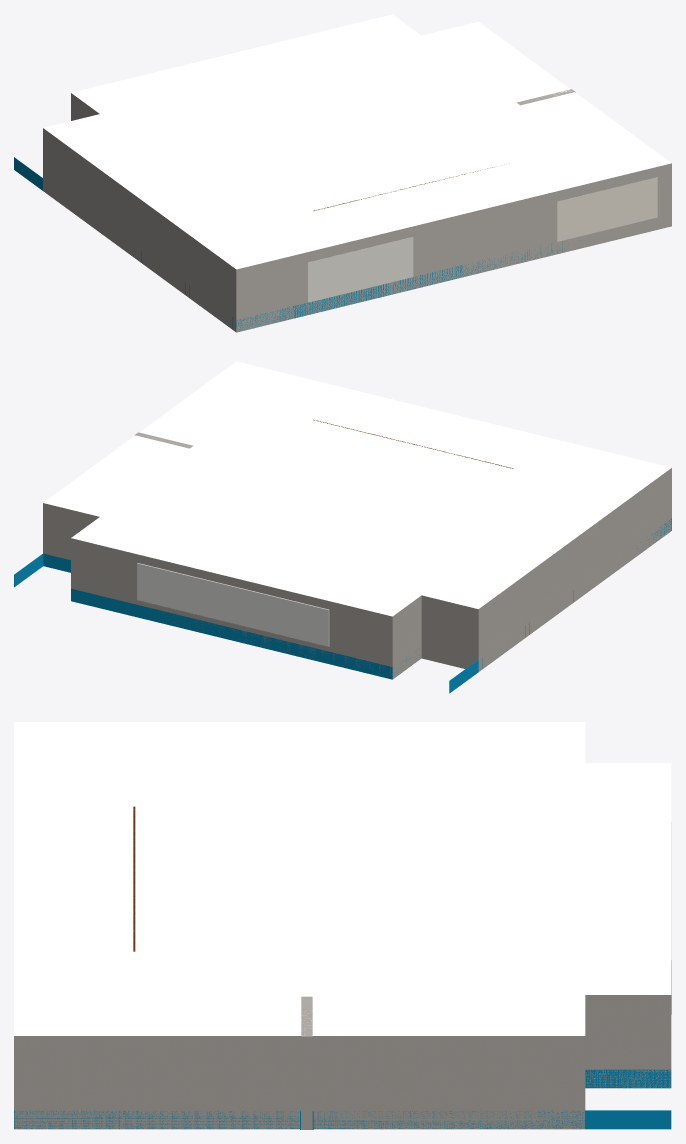
The model's file is truyenthong.glb.
3 views of the same model, one above another, from view 1: azimuth 30°, elevation 25°; view 2: azimuth 150°, elevation 25°; view 3: azimuth 270°, elevation 25° (orthographic). The views are drawn at different scales.
Visible parts, largest first — view 1: TT_Architecture, TT_AlcoveComb, TT_K11_BackPanel, TT_K10_BackPanel, TT_Dado_S; view 2: TT_Architecture, TT_K5_Director_Panel_Back_White, TT_AlcoveComb, TT_Dado_Khu5_Back, TT_Dado_W; view 3: TT_Architecture, TT_Dado_E, TT_AlcoveComb, TT_Dado_Jamb_R, TT_Right_Alcove_78_Divider.
Part boxes in pixels (<box>): TT_Architecture: <box>43,14,671,331</box>; TT_AlcoveComb: <box>43,114,293,332</box>; TT_K11_BackPanel: <box>308,237,413,302</box>; TT_K10_BackPanel: <box>557,177,657,241</box>; TT_Dado_S: <box>236,241,579,331</box>; TT_Architecture: <box>43,361,671,679</box>; TT_K5_Director_Panel_Back_White: <box>137,563,329,646</box>; TT_AlcoveComb: <box>421,454,671,671</box>; TT_Dado_Khu5_Back: <box>71,588,392,679</box>; TT_Dado_W: <box>449,519,671,693</box>; TT_Architecture: <box>14,722,671,1129</box>; TT_Dado_E: <box>14,1110,671,1129</box>; TT_AlcoveComb: <box>14,722,585,763</box>; TT_Dado_Jamb_R: <box>585,1069,671,1088</box>; TT_Right_Alcove_78_Divider: <box>301,996,312,1129</box>.
Size of the model in its own units: 26.05 by 3.6 by 23.03.
82 materials, 46 textured.
